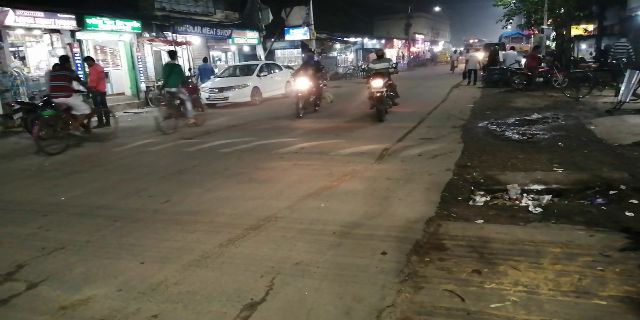Car: (195, 60, 297, 107)
Cycle: (18, 54, 124, 152), (148, 47, 210, 136)
Motorbike: (284, 49, 330, 123), (361, 45, 402, 125)
